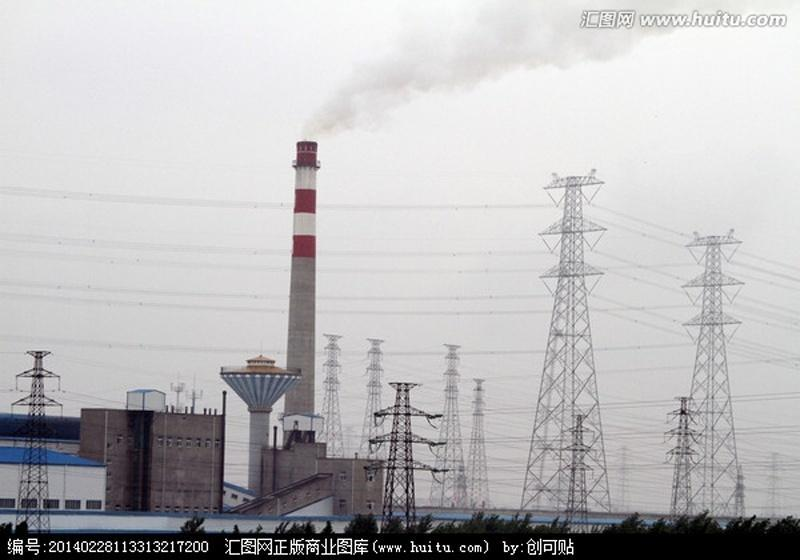power_tower: (528, 158, 614, 512), (673, 226, 752, 523), (362, 381, 450, 535), (427, 334, 473, 517), (15, 349, 60, 535), (555, 411, 597, 538), (662, 393, 698, 520), (357, 333, 388, 466), (467, 376, 495, 514), (323, 337, 347, 456), (760, 448, 782, 521), (728, 463, 748, 518)
